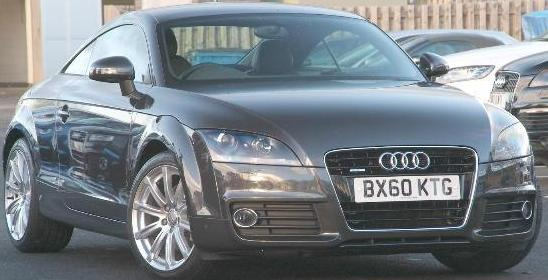front_view: (183, 124, 536, 255)
headlight: (194, 122, 307, 174)
side_glass: (62, 22, 155, 83)
